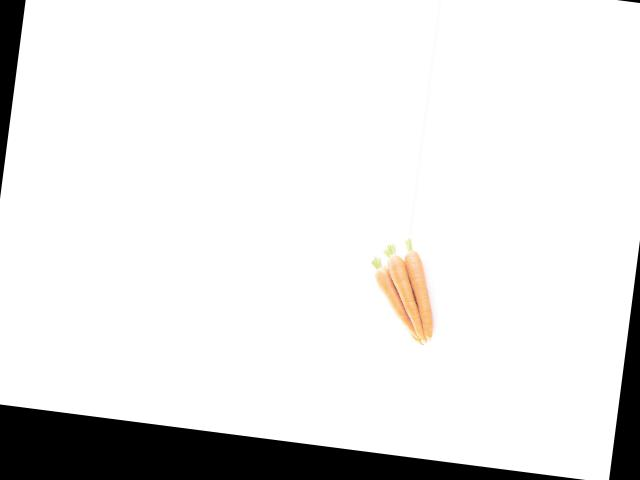carrot: (395, 234, 460, 335)
